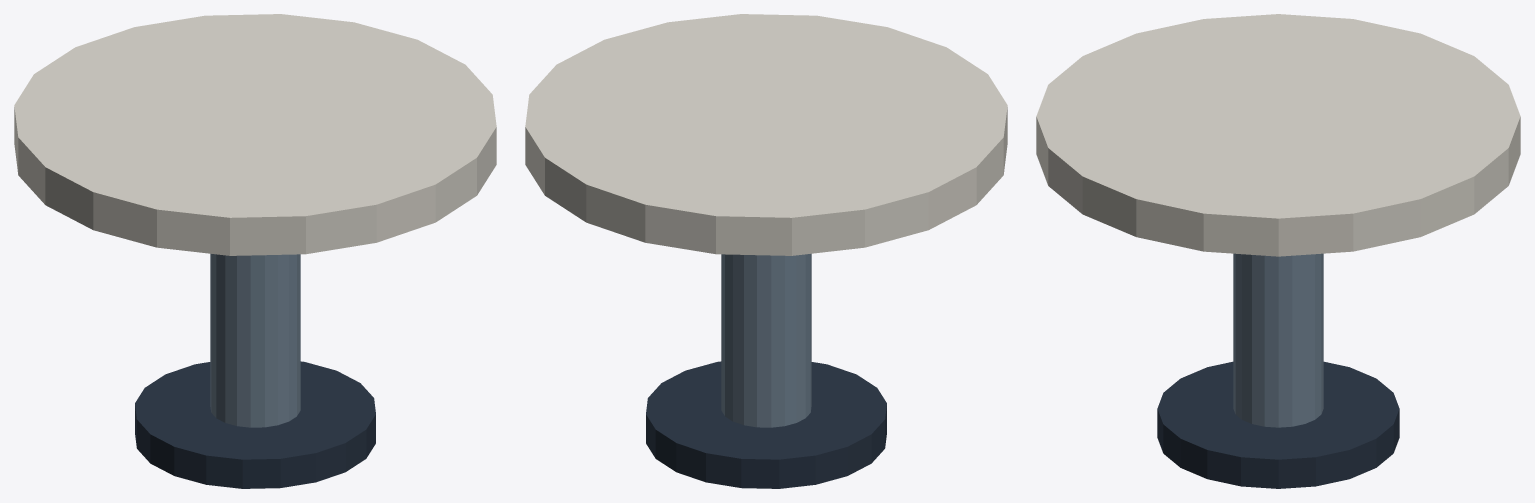
The model's file is living_09.glb.
The picture shows the model from 3 angles, left to right: view 1: azimuth 30°, elevation 25°; view 2: azimuth 150°, elevation 25°; view 3: azimuth 270°, elevation 25°; orthographic projection.
Visible parts, largest first — view 1: CoffeeTop, CoffeeBase, CoffeeStem; view 2: CoffeeTop, CoffeeBase, CoffeeStem; view 3: CoffeeTop, CoffeeBase, CoffeeStem.
Part boxes in pixels (box(x1,y1,x2,y2)): CoffeeTop: box(14, 14, 496, 255); CoffeeBase: box(135, 361, 375, 488); CoffeeStem: box(210, 253, 300, 427); CoffeeTop: box(525, 14, 1007, 255); CoffeeBase: box(646, 361, 886, 488); CoffeeStem: box(721, 253, 811, 427); CoffeeTop: box(1036, 14, 1520, 256); CoffeeBase: box(1157, 361, 1399, 488); CoffeeStem: box(1233, 253, 1323, 427).
Size of the model in its own units: 0.75 by 0.5495 by 0.75.
